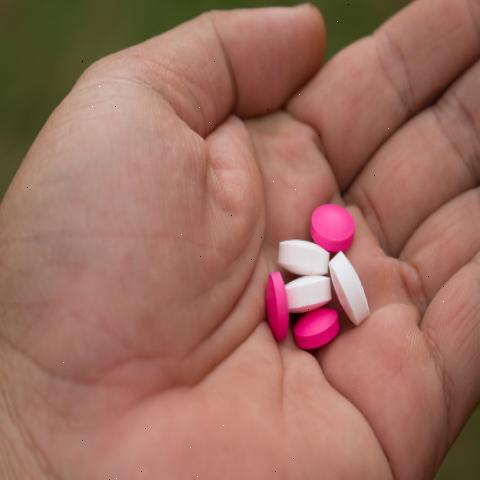Pill: (329, 247, 373, 328), (273, 242, 325, 276)
